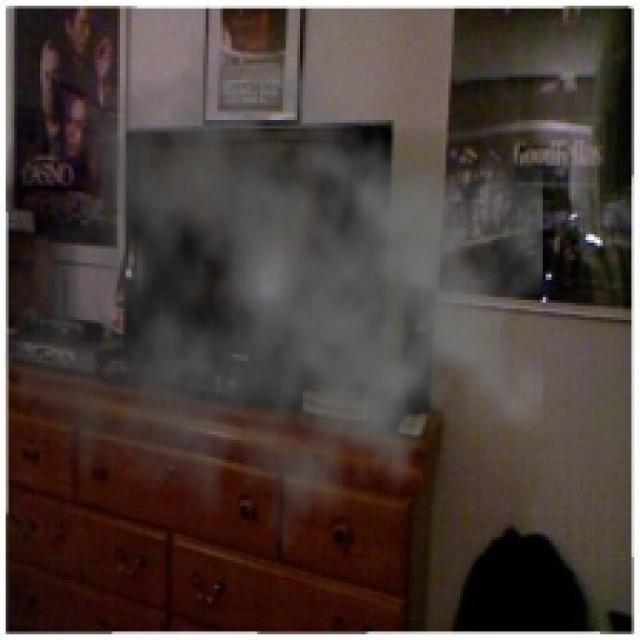Smoke: (3, 29, 543, 578)
